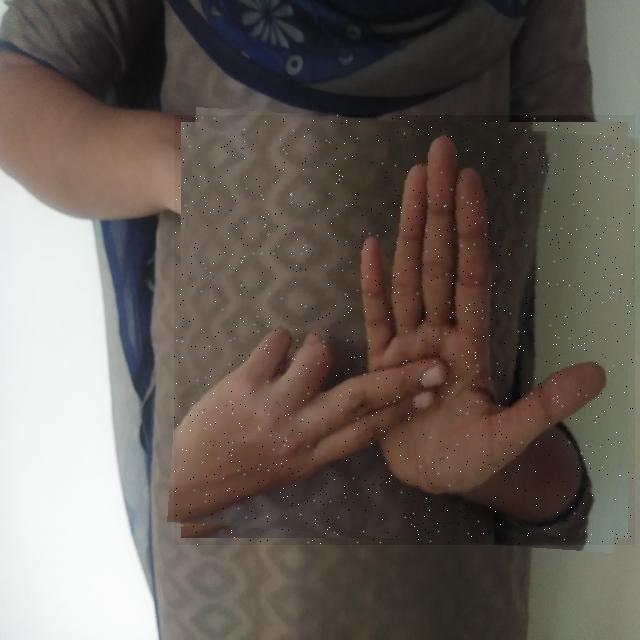N: (174, 115, 635, 545)
